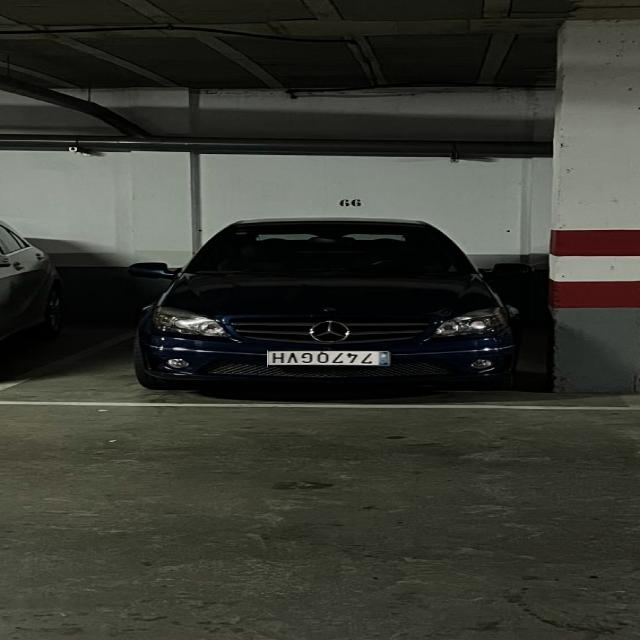License-Plate: (267, 349, 390, 367)
